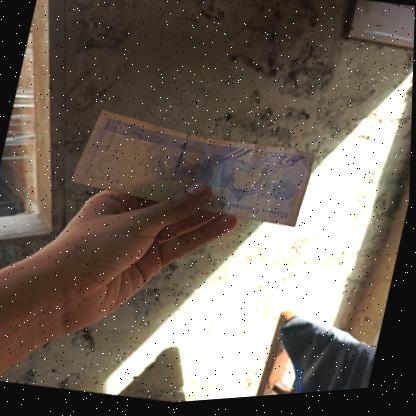ten-back-vef: (64, 94, 319, 248)
